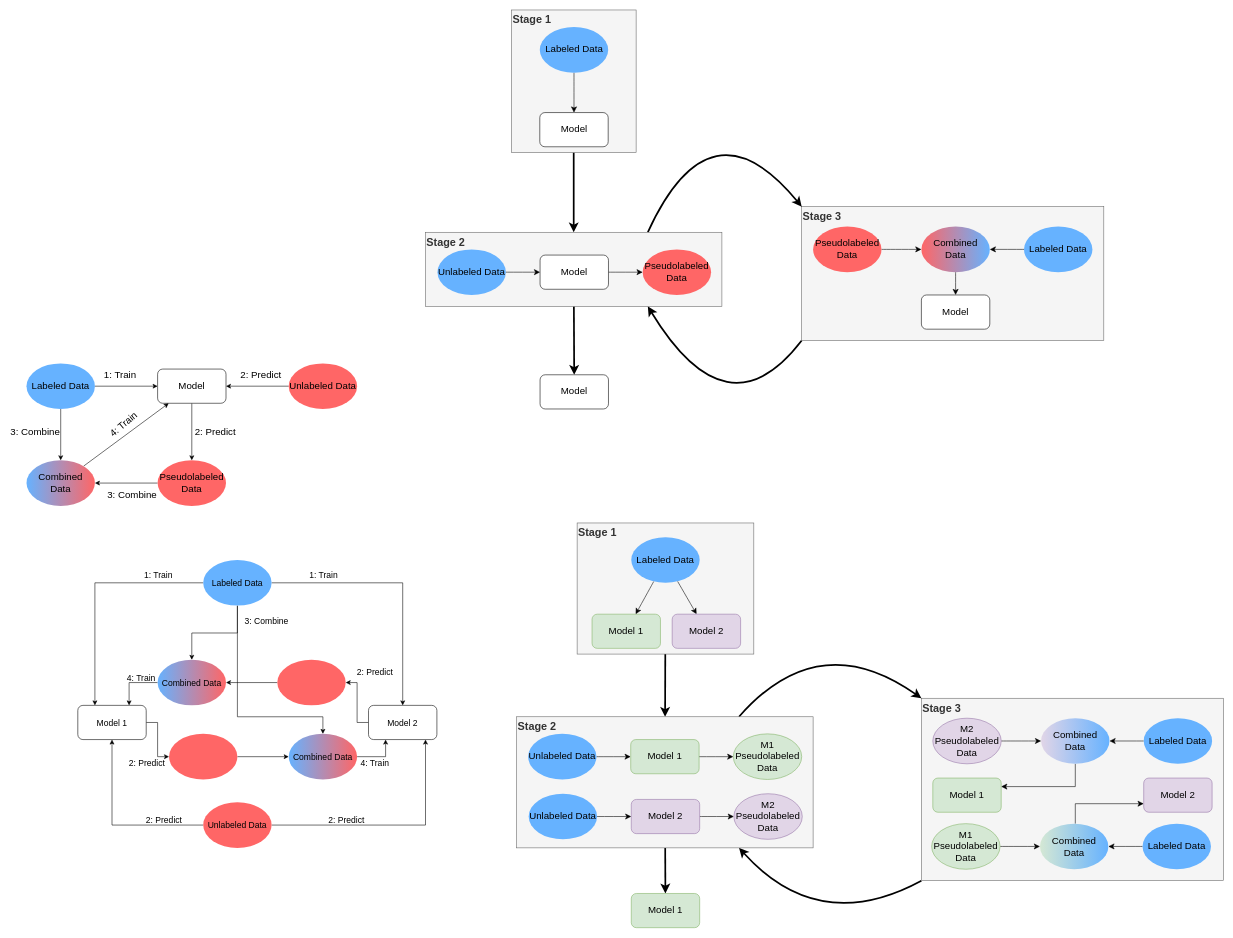
Some shapes in this 1233 by 938 pixel diagram are drawn without their labels. Here are the shapes that lost their labels. From the top down, the box of each, then its label:
(277, 659, 345, 705): Pseudolabels predicted by Model 2
(169, 734, 237, 779): Pseudolabels predicted by Model 1
